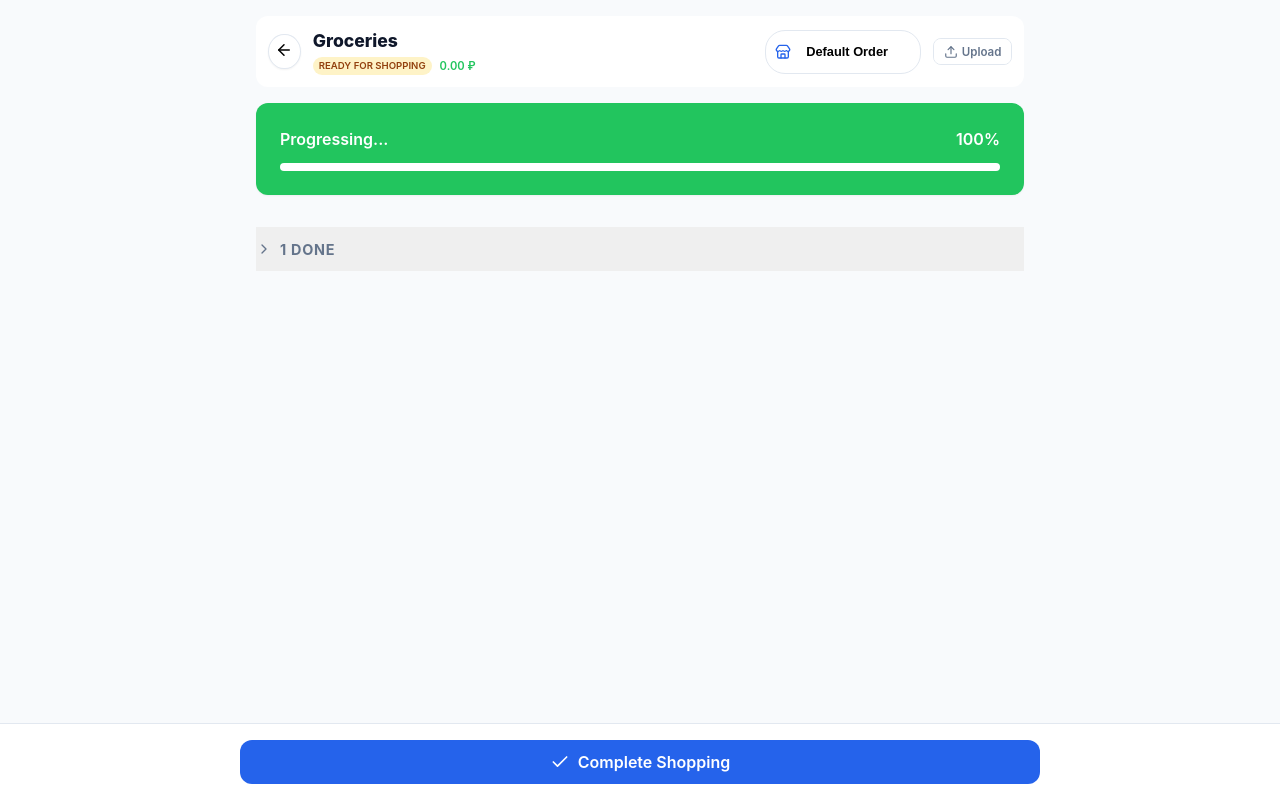
Test: ListDetail — shopper done section › a bought row offers Undo but no "Bought" action
Click the button "1 done" at x=311, y=249, box [256,227,1024,271]
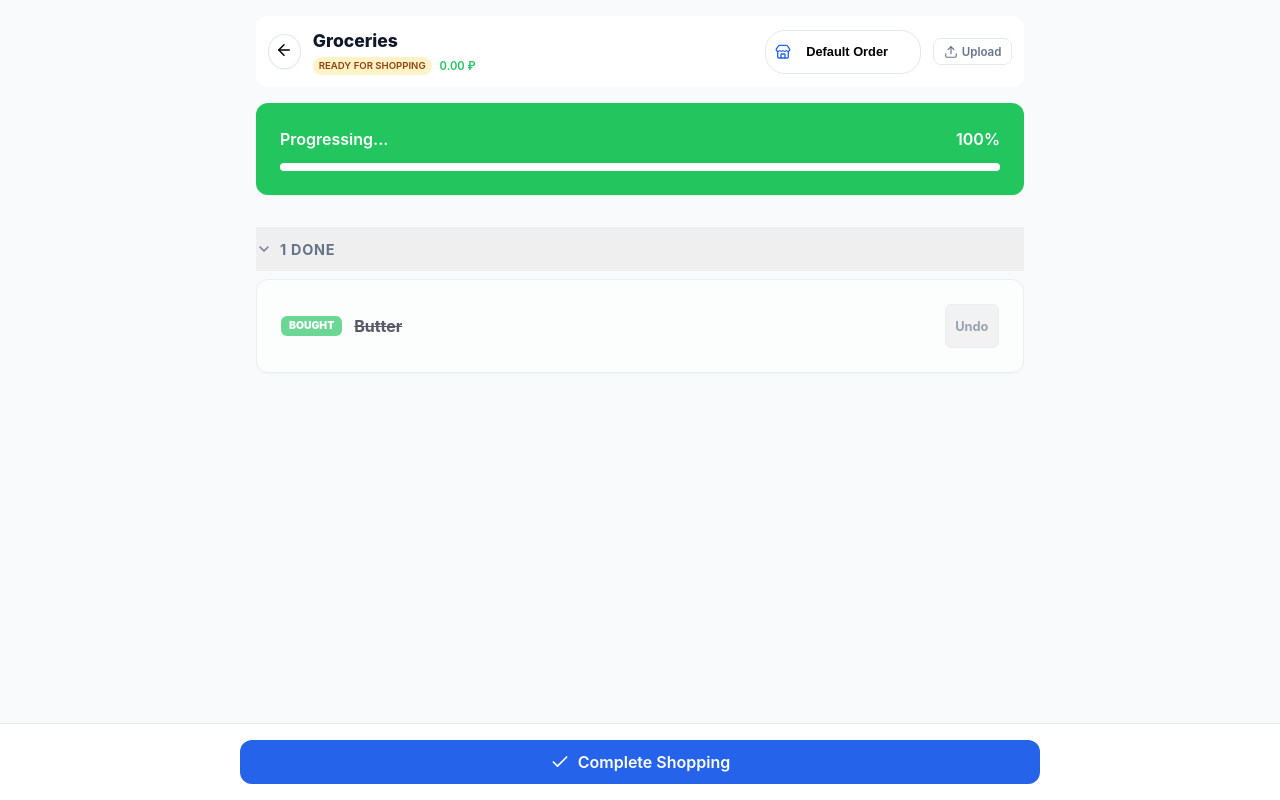
Expected: the button with aria-label "mark Butter as not bought" is shown, [945,304,999,348]
